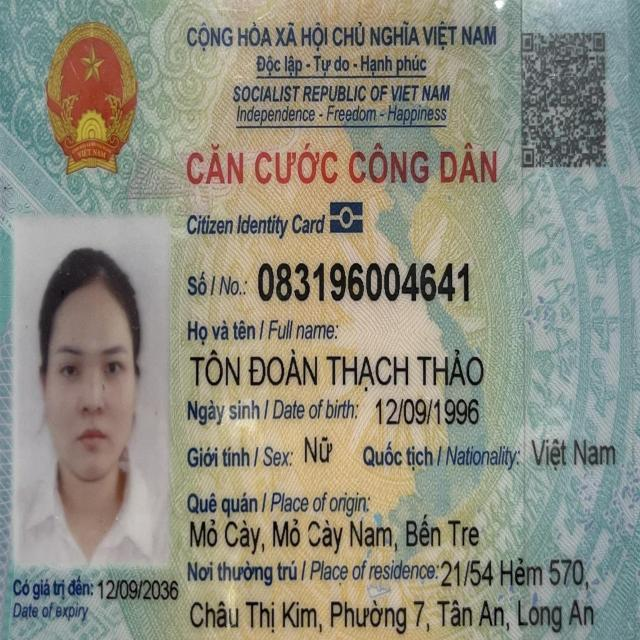current_place: (188, 594, 596, 635), (440, 555, 590, 592)
dob: (375, 391, 482, 428)
expire_date: (98, 575, 180, 603)
gender: (303, 432, 333, 467)
id: (256, 259, 473, 306)
name: (190, 346, 485, 390)
nationality: (529, 433, 618, 474)
origin_place: (188, 516, 480, 553)
